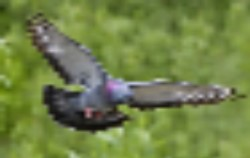pigeon: (23, 11, 248, 134)
